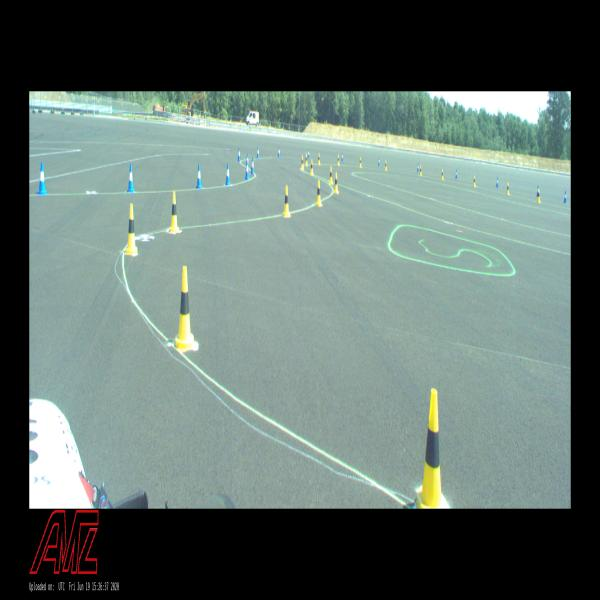blue_cone: (38, 162, 47, 195), (128, 164, 134, 192), (196, 164, 202, 189), (226, 163, 230, 185), (250, 157, 255, 174), (245, 160, 249, 179), (245, 154, 249, 169), (564, 191, 567, 203), (496, 177, 499, 188), (341, 152, 344, 162), (238, 148, 240, 160), (257, 147, 259, 158), (278, 147, 280, 157), (378, 157, 380, 166), (456, 169, 458, 178), (308, 150, 310, 158), (417, 164, 419, 172), (537, 186, 538, 196)
yellow_cone: (416, 388, 446, 508), (174, 266, 194, 349), (126, 203, 137, 255), (169, 192, 179, 233), (283, 185, 290, 217), (316, 180, 322, 205), (334, 173, 338, 193), (310, 159, 314, 176), (329, 167, 333, 184), (301, 155, 304, 170), (537, 189, 540, 203), (507, 183, 510, 195), (305, 154, 308, 166), (337, 154, 340, 166), (473, 176, 476, 187), (359, 157, 362, 168), (318, 153, 320, 165), (442, 170, 444, 180), (385, 160, 387, 170), (420, 166, 422, 176)
